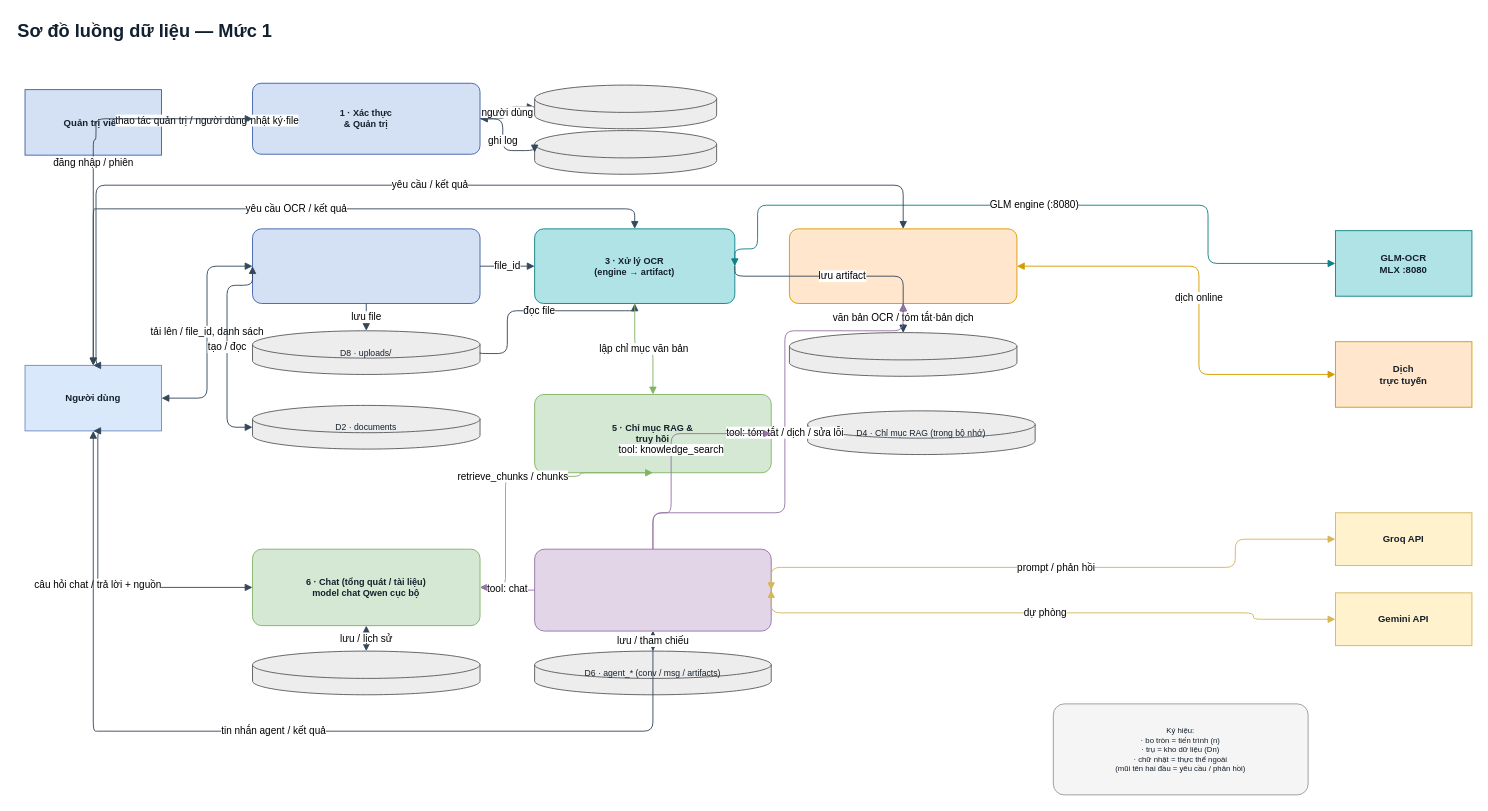
This 1488x811 diagram has some shape labels left out. Each missing label, with the centre of its shape:
2 · Tiếp nhận tài liệu (tải lên · read-text · thư viện): (366,265)
4 · Dịch vụ AI (sửa lỗi · dịch · tóm tắt): (903,265)
7 · Điều phối Agent provider + tool: (652,589)
D1 · users: (625,106)
D3 · document_artifacts: (903,354)
D5 · chat_conversations / messages: (366,672)
D7 · activity_logs: (625,152)
